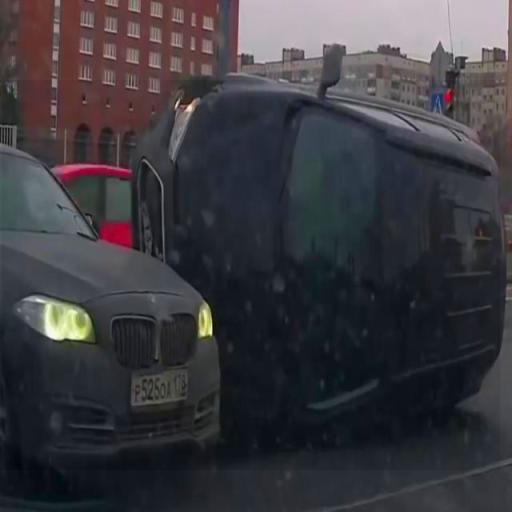小汽车撞小汽车: (2, 80, 500, 470)
